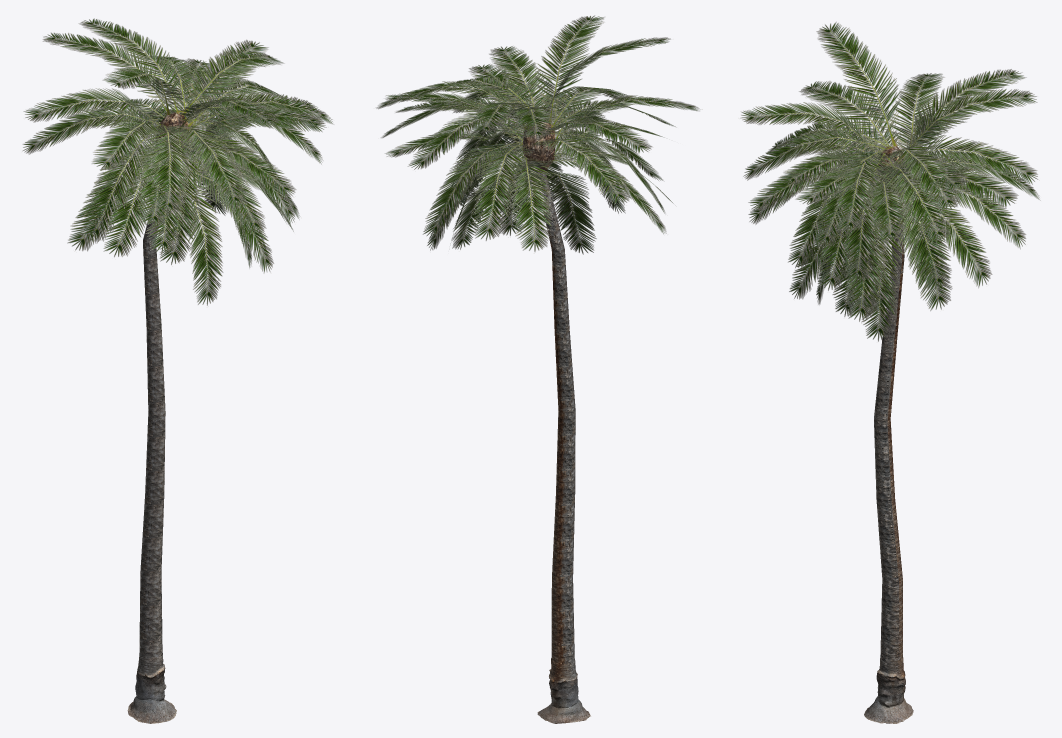
The model's file is palm_tree_palmlow2_terrain3d.glb.
3 renders of one model, left to right at view 1: azimuth 30°, elevation 25°; view 2: azimuth 150°, elevation 25°; view 3: azimuth 270°, elevation 25°, orthographic. The views are drawn at different scales.
Parts seen in each view (by area): view 1: PALMLOW2_Terrain3D; view 2: PALMLOW2_Terrain3D; view 3: PALMLOW2_Terrain3D.
Boxes of the visible parts, <box> form: PALMLOW2_Terrain3D: <box>22,18,333,723</box>; PALMLOW2_Terrain3D: <box>376,15,699,723</box>; PALMLOW2_Terrain3D: <box>740,21,1040,723</box>.
Bounding box in the file's own units: 3.96 × 9.12 × 3.93.
Materials: 3 (3 with a texture image).
